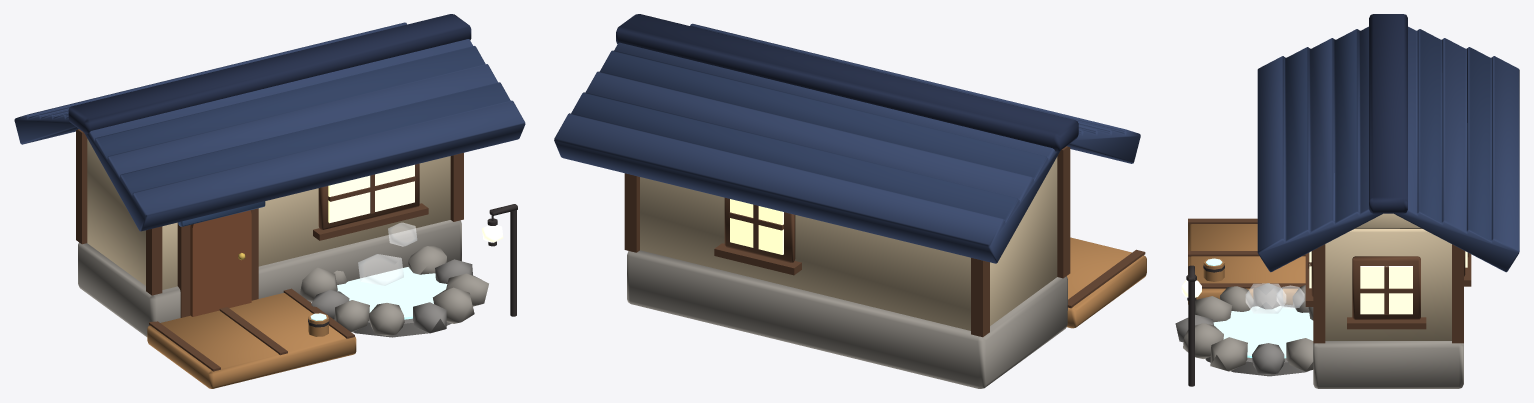
File: v_bathhouse.glb
The picture shows the model from 3 angles, left to right: view 1: azimuth 30°, elevation 25°; view 2: azimuth 150°, elevation 25°; view 3: azimuth 270°, elevation 25°; orthographic projection. The views are drawn at different scales.
Parts seen in each view (by area): view 1: Bathhouse; view 2: Bathhouse; view 3: Bathhouse.
Part boxes in pixels (<box>): Bathhouse: <box>14,14,525,388</box>; Bathhouse: <box>554,14,1146,388</box>; Bathhouse: <box>1175,14,1519,388</box>.
Size of the model in its own units: 5.9 by 3.09 by 4.59.
